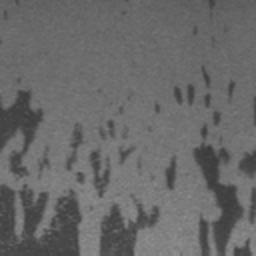Red iron sheet: (0, 74, 178, 256), (174, 65, 256, 256), (97, 196, 160, 256), (227, 81, 237, 104), (1, 6, 13, 22), (152, 102, 163, 115), (207, 0, 218, 12), (146, 124, 155, 133), (192, 26, 197, 37)
